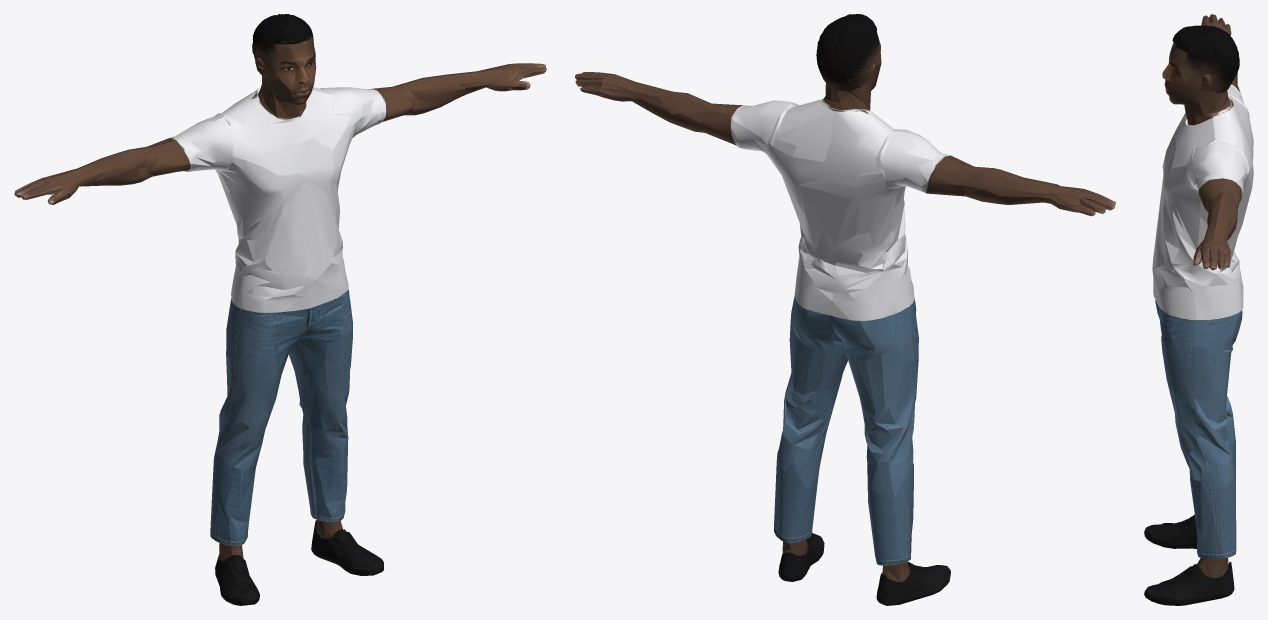
File: image3d.glb
The picture shows the model from 3 angles, left to right: view 1: azimuth 30°, elevation 25°; view 2: azimuth 150°, elevation 25°; view 3: azimuth 270°, elevation 25°; orthographic projection. The views are drawn at different scales.
Bounding box in the file's own units: 1.9 × 1.9 × 0.3471.
1 material, 1 textured.
